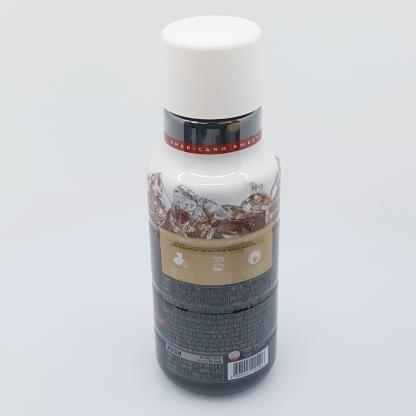--------------1-1L: (146, 15, 280, 397)
